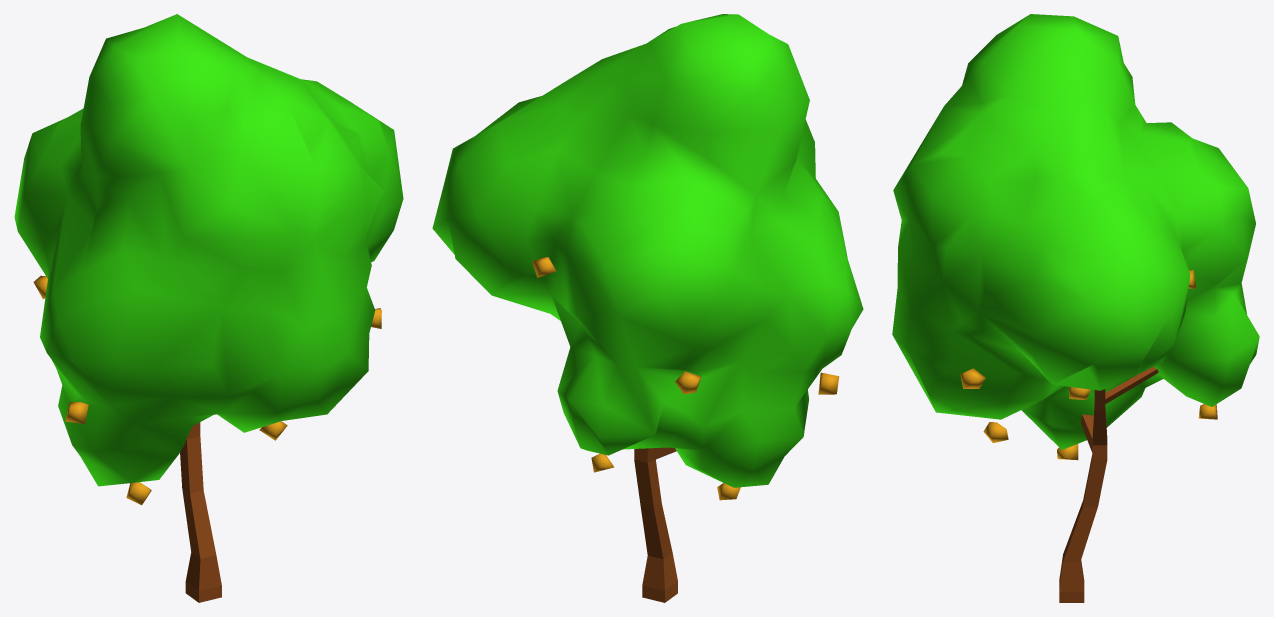
Rendered from SM_OrangeTree_001_LOD3.fbx.
The picture shows the model from 3 angles, left to right: view 1: azimuth 30°, elevation 25°; view 2: azimuth 150°, elevation 25°; view 3: azimuth 270°, elevation 25°; orthographic projection. The views are drawn at different scales.
Parts seen in each view (by area): view 1: OrangeTree_01; view 2: OrangeTree_01; view 3: OrangeTree_01.
Part boxes in pixels (x1=…): OrangeTree_01: x1=14, y1=14, x2=403, y2=602; OrangeTree_01: x1=432, y1=14, x2=863, y2=602; OrangeTree_01: x1=892, y1=14, x2=1259, y2=602.
Bounding box in the file's own units: 216 × 323 × 194.
